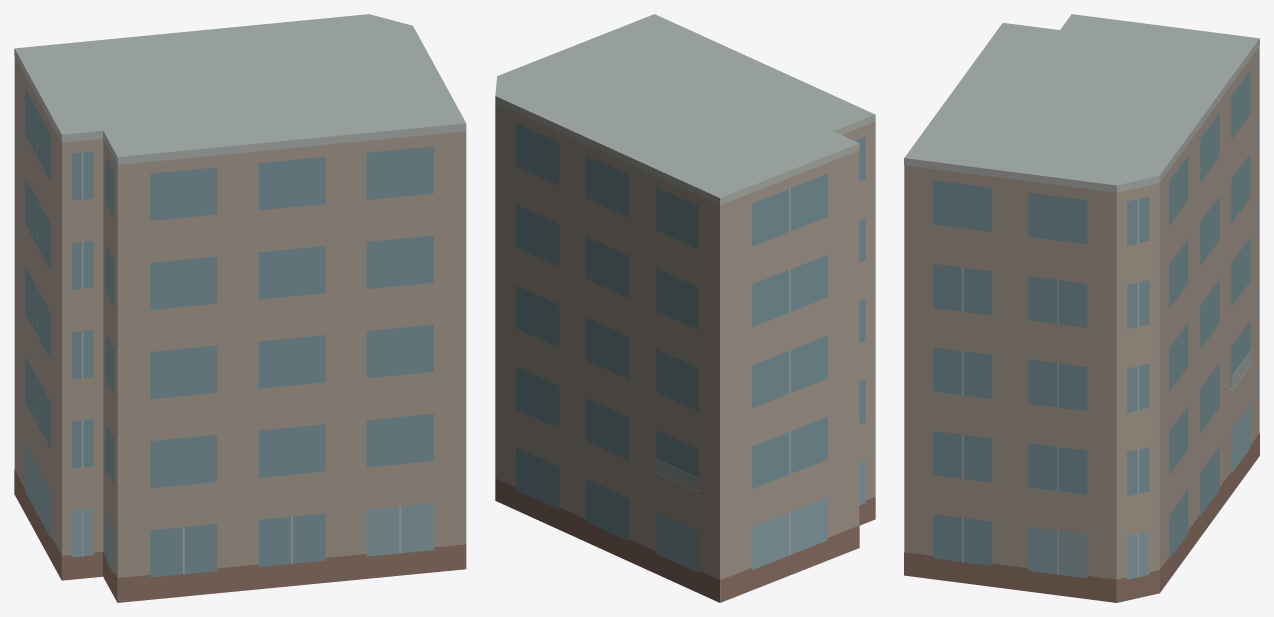
File: survey-upis-32868439.glb
3 renders of one model, left to right at view 1: azimuth 30°, elevation 25°; view 2: azimuth 150°, elevation 25°; view 3: azimuth 270°, elevation 25°, orthographic. The views are drawn at different scales.
Parts seen in each view (by area): view 1: survey-upis-32868439.tmp; view 2: survey-upis-32868439.tmp; view 3: survey-upis-32868439.tmp.
Part boxes in pixels (bbox=[...]): survey-upis-32868439.tmp: bbox=[14, 14, 466, 602]; survey-upis-32868439.tmp: bbox=[495, 14, 875, 602]; survey-upis-32868439.tmp: bbox=[904, 14, 1259, 602].
Size of the model in its own units: 12.25 by 13.9 by 10.74.
